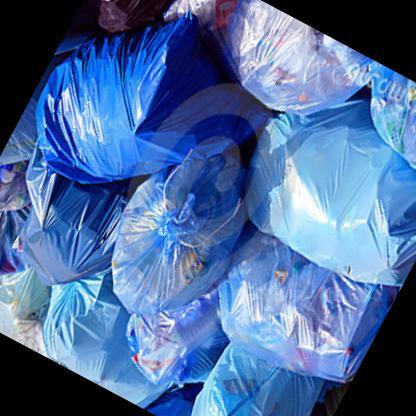Garbage: (0, 0, 234, 335), (208, 102, 415, 415), (92, 73, 314, 348), (39, 269, 339, 415), (218, 2, 370, 138)
